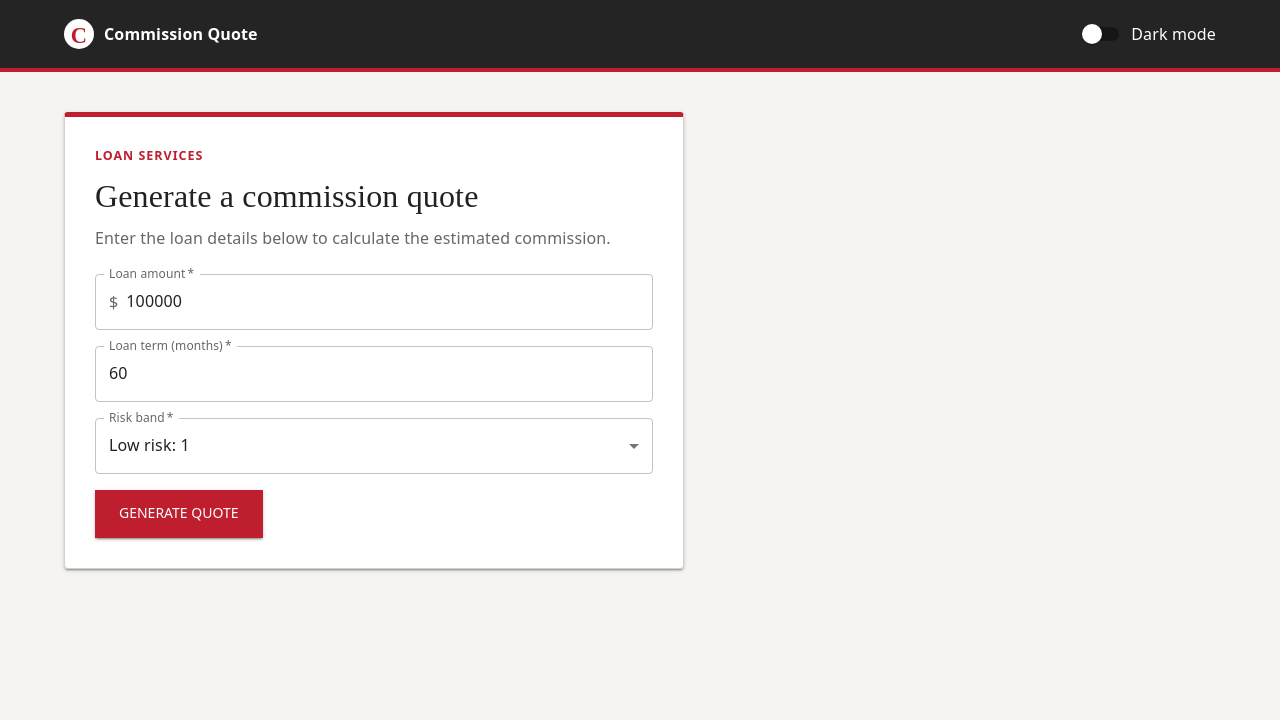
Scenario: App › hides old results and shows an error when the API request fails
Click the button "Generate quote" at (179, 514), box [95, 490, 262, 538]
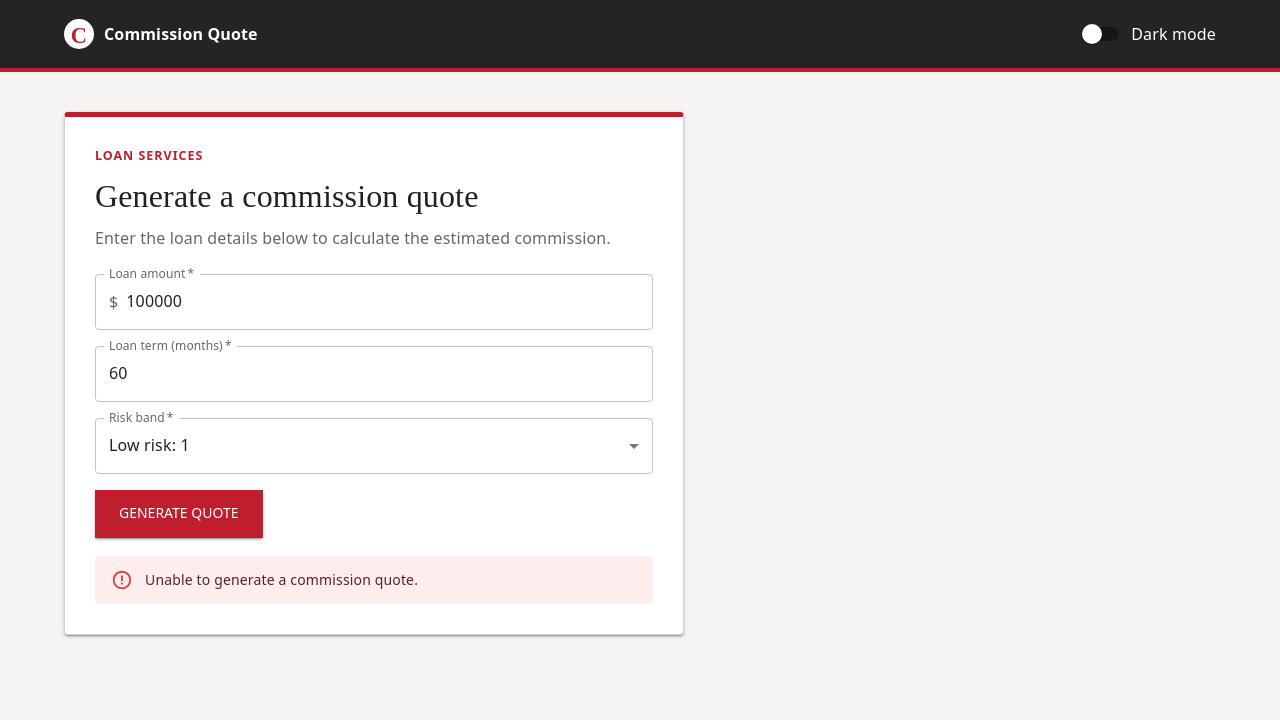
expect the message reads "Unable to generate a commission quote.": met, box [145, 570, 418, 589]
